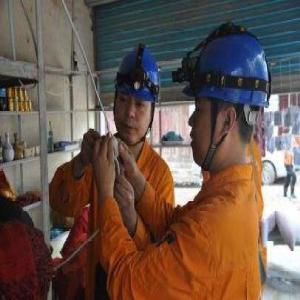blue: (185, 30, 271, 172), (110, 41, 163, 141)
